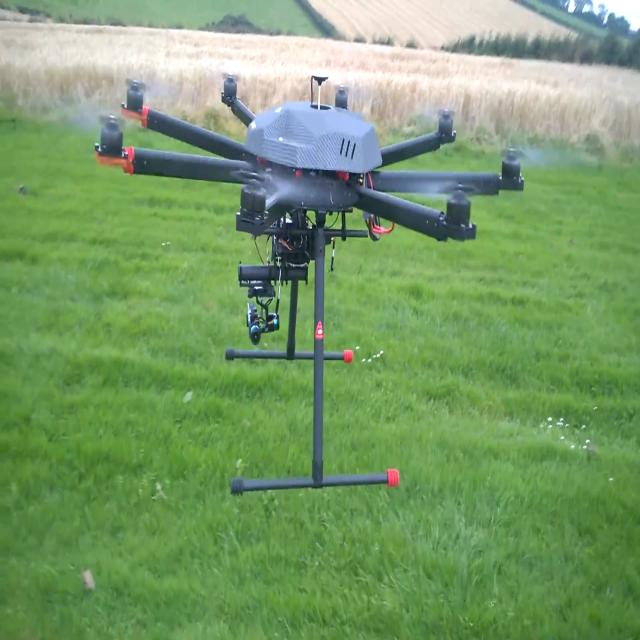drone: (107, 37, 536, 514)
